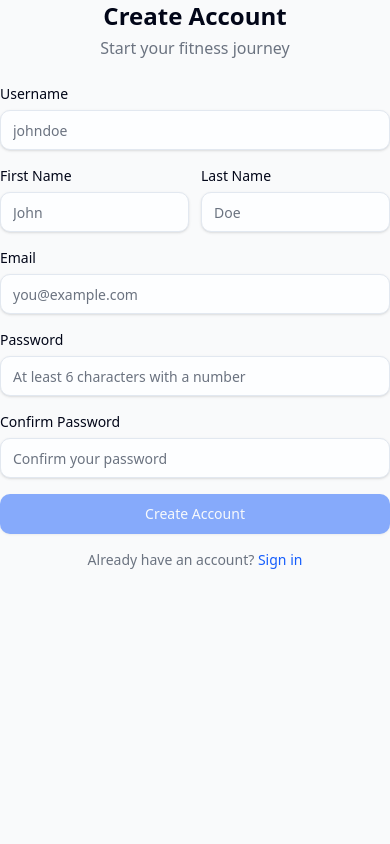
Test case: SignUpForm › should display error message on signup failure
Type "johnd" into the field labelled "Username" at (195, 130), box [0,110,389,150]
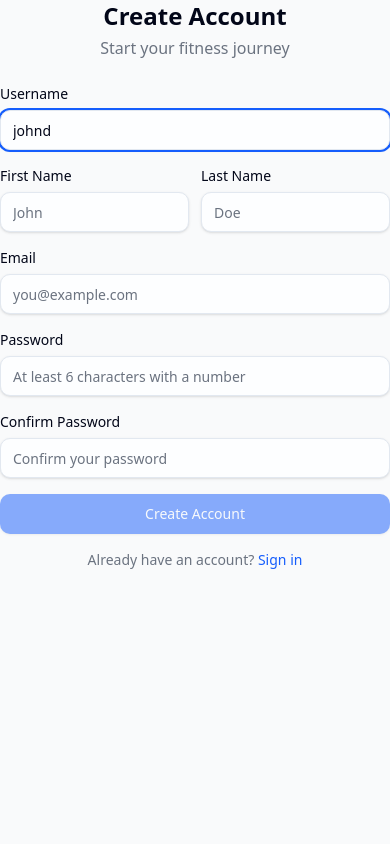
Type "john@example.com" into the field labelled "Email" at (195, 294), box [0,274,389,314]
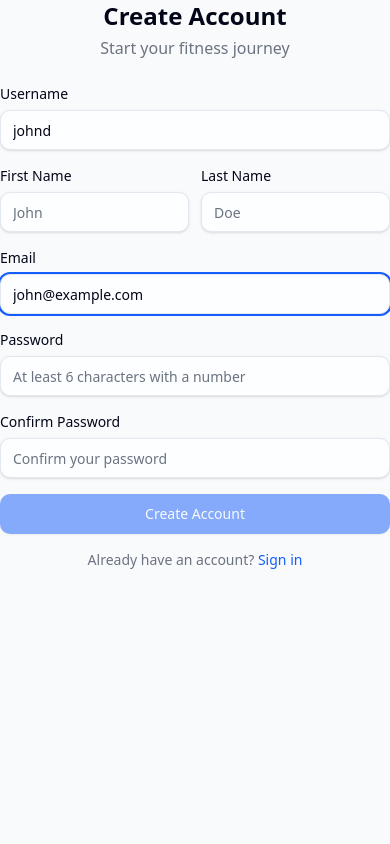
Type "password123" into the password field labelled "Password" at (195, 376), box [0,356,389,396]
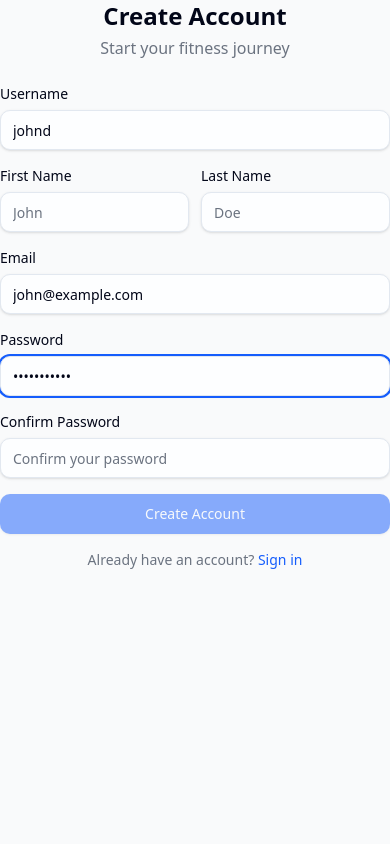
Type "password123" into the password field labelled "Confirm Password" at (195, 458), box [0,438,389,478]
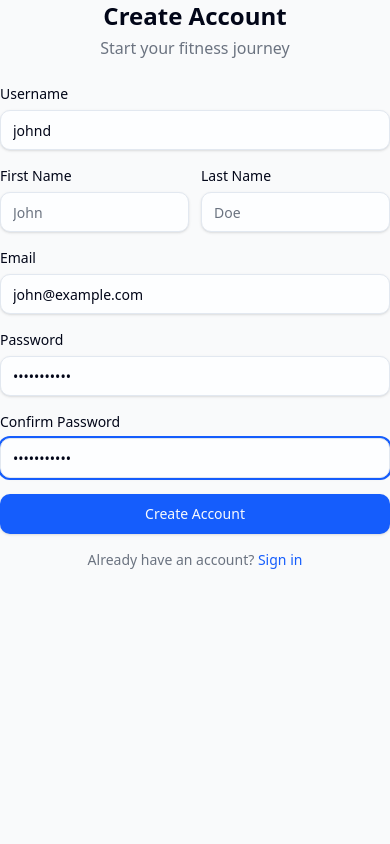
Check: the button "Create Account" is enabled
Click the button "Create Account" at (195, 514), box [0,494,389,534]
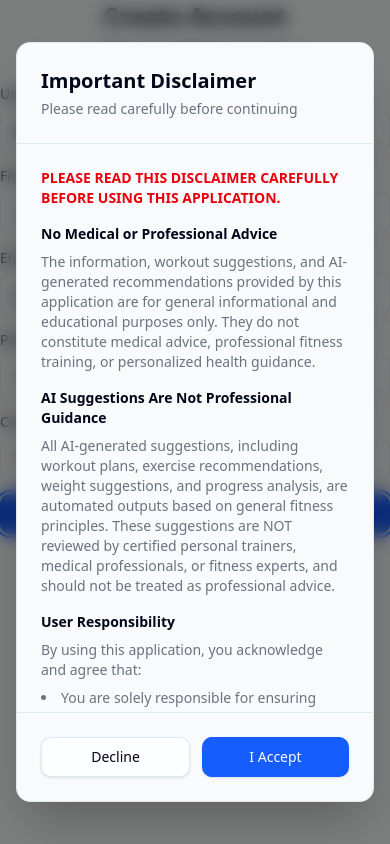
Check: the button "I Accept" is shown
Click the button "I Accept" at (276, 757), box [202,737,349,777]
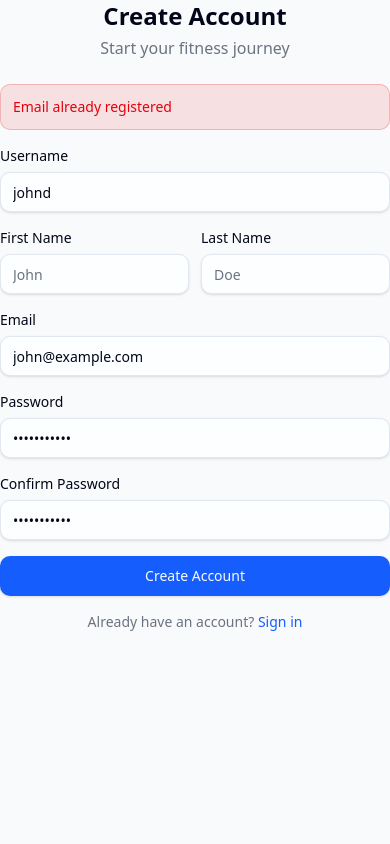
Check: the text "Email already registered" is shown, box [13,97,172,116]
